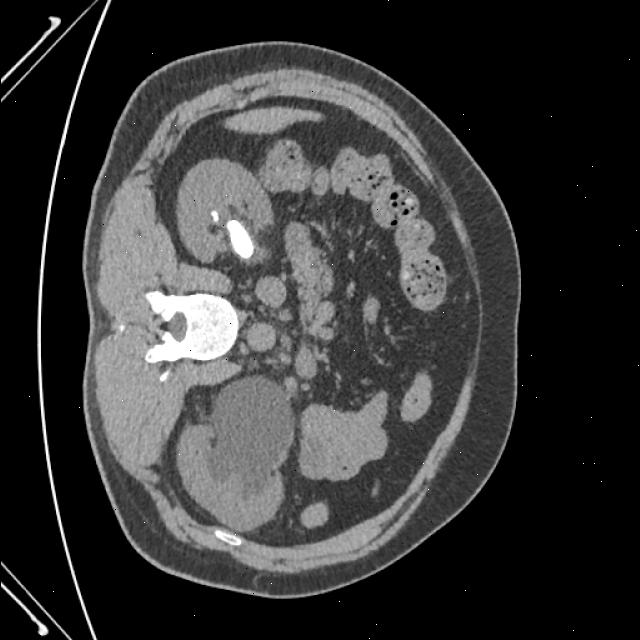kidneystone: (227, 220, 252, 259), (211, 211, 219, 221)
